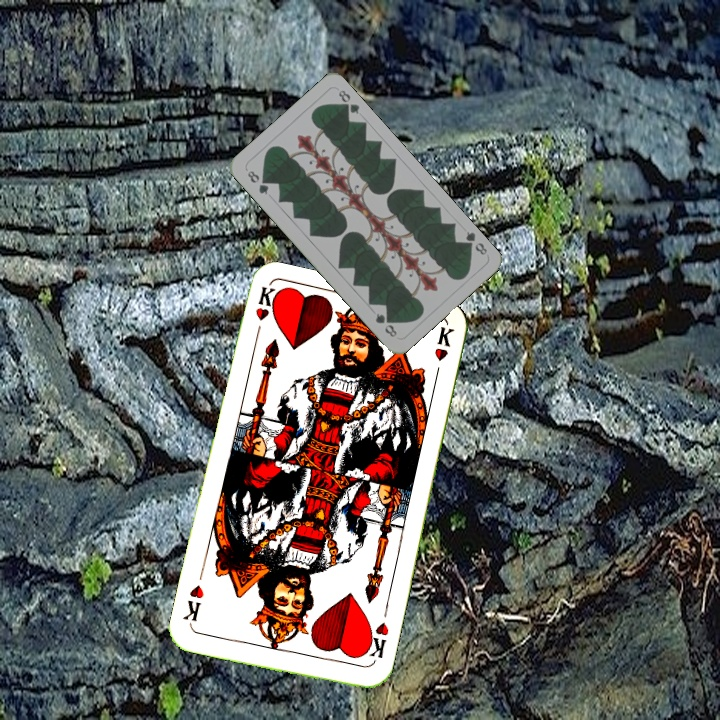G8: (459, 227, 490, 258), (243, 166, 271, 197)
HK: (250, 284, 278, 343), (359, 618, 392, 661)
